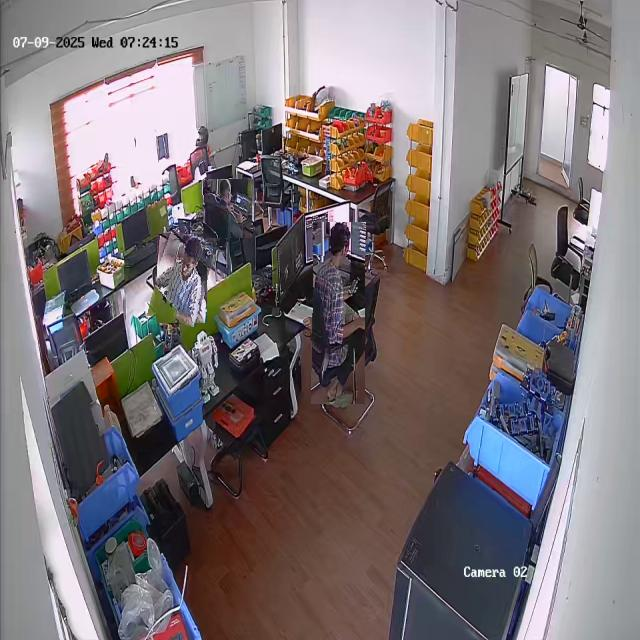person: (312, 222, 366, 404), (152, 232, 212, 325), (203, 179, 254, 238)
